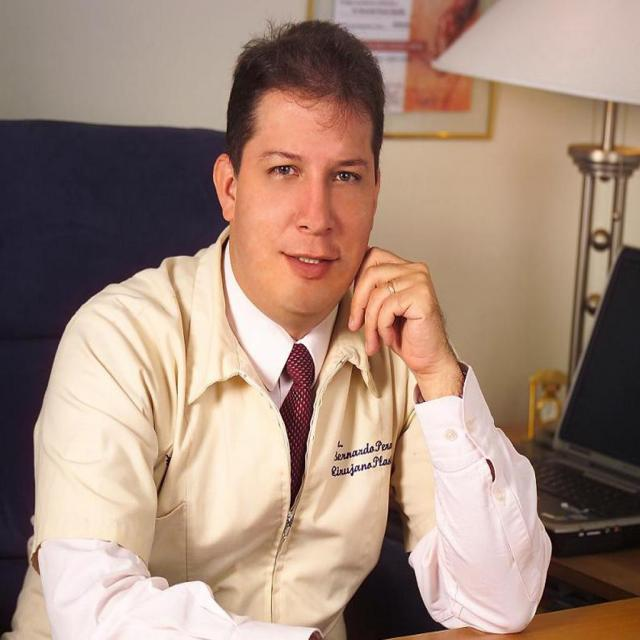nomask: (242, 89, 376, 312)
